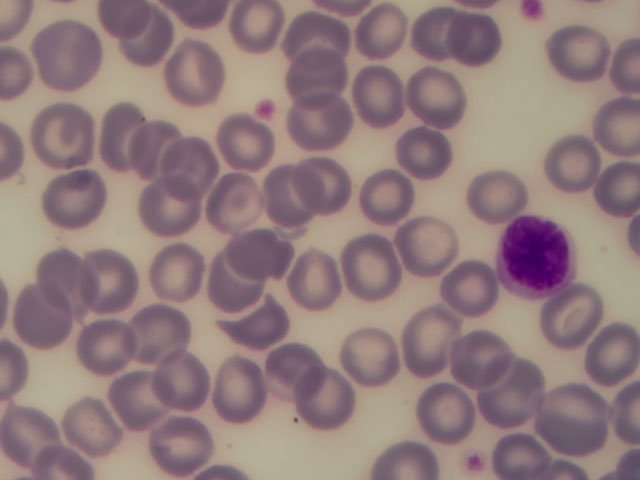Platelets: (253, 94, 280, 121), (520, 1, 548, 25), (464, 450, 488, 472)
RBC: (31, 20, 104, 97), (29, 98, 102, 175), (34, 161, 107, 238), (83, 98, 156, 175), (111, 107, 184, 184), (152, 127, 225, 204), (125, 180, 198, 257), (157, 37, 230, 114), (109, 4, 182, 81), (285, 45, 358, 122), (283, 9, 356, 86), (225, 1, 298, 78), (284, 81, 357, 158), (202, 106, 275, 183), (196, 146, 269, 223), (245, 158, 318, 235), (303, 147, 376, 224), (349, 155, 422, 232), (382, 120, 455, 197), (401, 61, 474, 138), (360, 61, 433, 138), (399, 2, 472, 79), (438, 1, 511, 78), (538, 19, 611, 96), (532, 123, 605, 200), (456, 150, 529, 227), (394, 205, 467, 282), (354, 230, 427, 307), (278, 244, 351, 321), (224, 202, 297, 279), (199, 243, 272, 320), (160, 237, 233, 314), (89, 237, 162, 314), (39, 242, 112, 319), (1, 280, 74, 357), (61, 305, 134, 382), (116, 291, 189, 368), (156, 339, 229, 416), (101, 358, 174, 435), (61, 386, 134, 463), (149, 403, 222, 480), (205, 352, 278, 429), (251, 334, 324, 411), (292, 363, 365, 440), (336, 321, 409, 398), (398, 300, 471, 377), (430, 257, 503, 334), (439, 312, 512, 389), (411, 368, 484, 445), (477, 353, 550, 430), (543, 377, 616, 454), (567, 326, 640, 403), (548, 289, 621, 366), (347, 1, 420, 77), (1, 403, 73, 480), (598, 89, 640, 161)
WBC: (493, 214, 577, 297)
